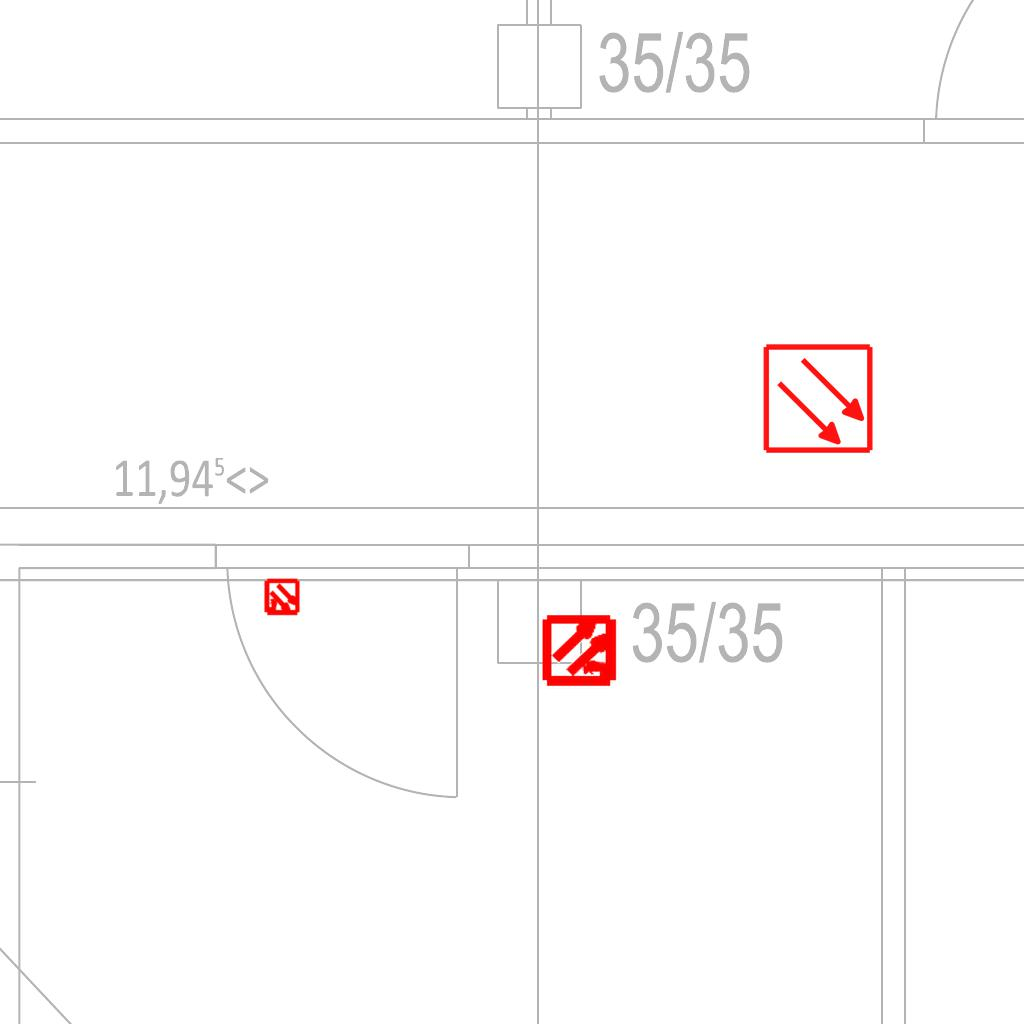OT_Multisensormelder_(Kombination_RMO_WMD): (525, 594, 638, 707), (254, 570, 310, 626)
RMO_Rauchmelder_optischer: (762, 342, 875, 455)
